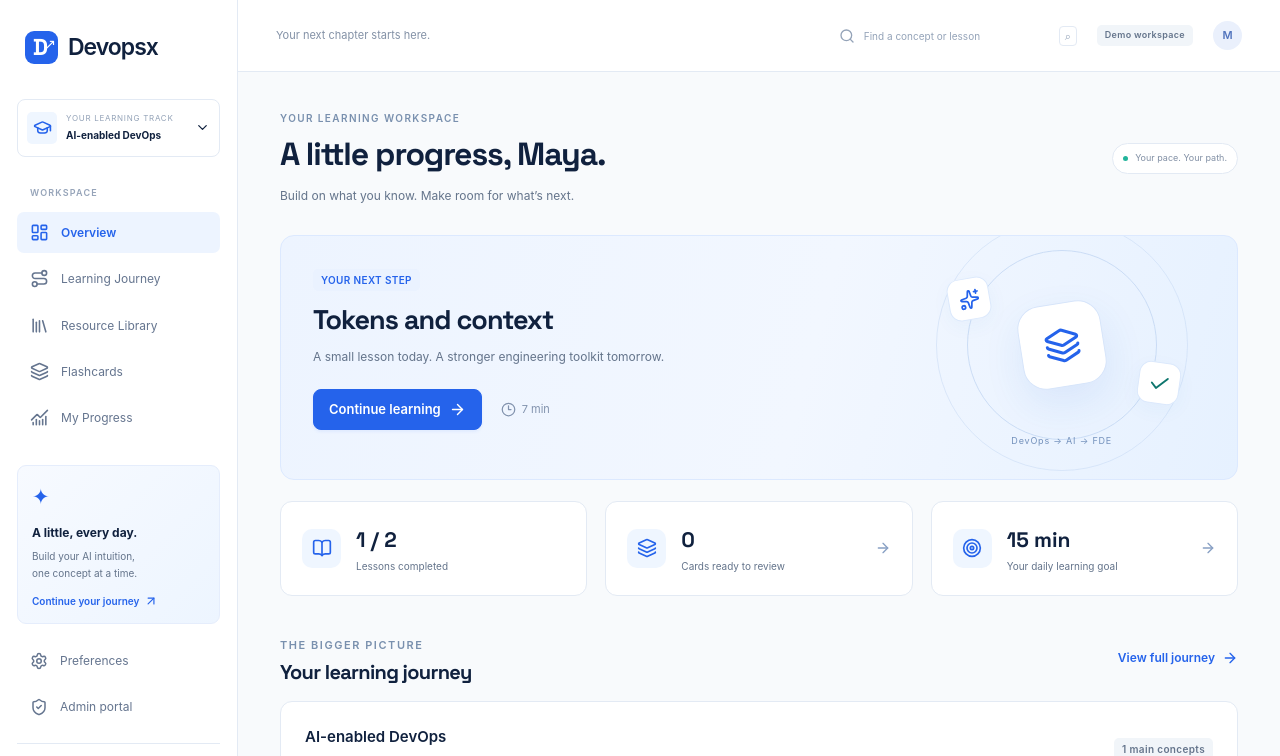
Test: learner navigation › links the dashboard tiles and persists a changed daily goal
Expected: the heading "A little progress, Maya." is shown, left=280, top=135, right=606, bottom=174
Click the link "0 Cards ready to review": (647, 548) left=605, top=501, right=913, bottom=596
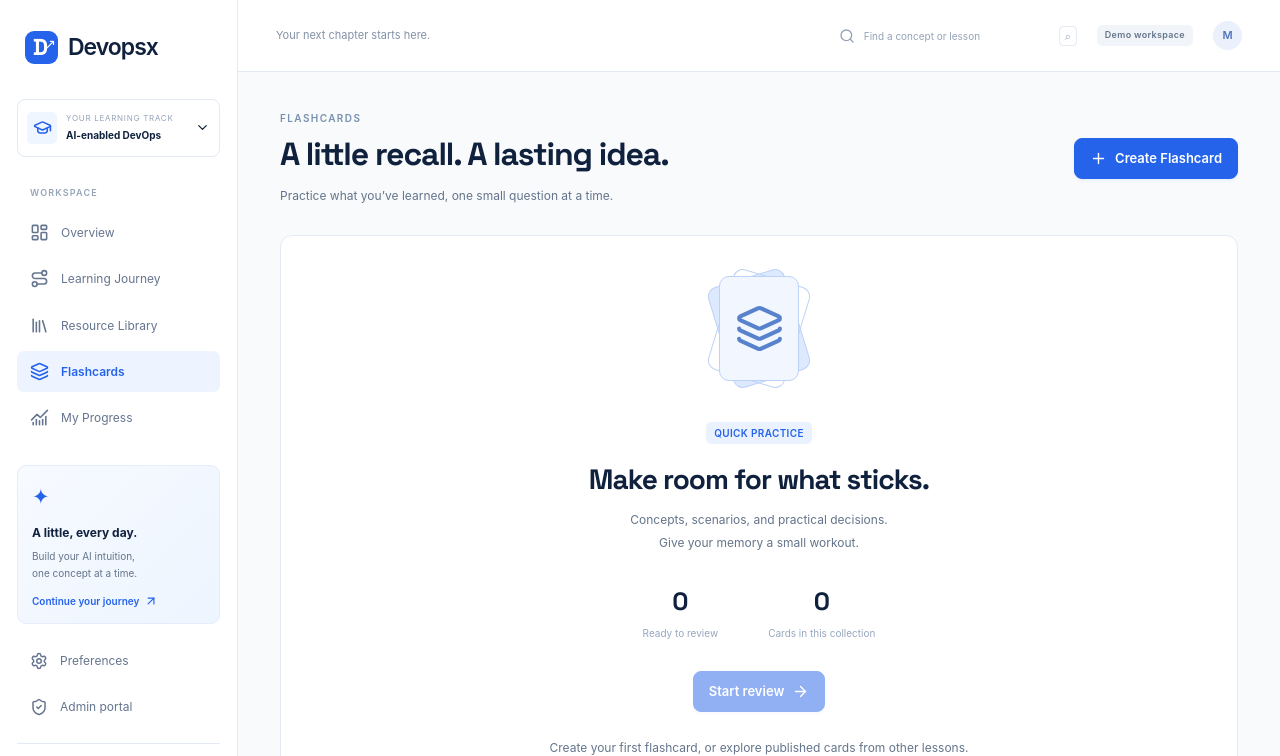
Expected: the heading "A little recall. A lasting idea." is shown, left=280, top=135, right=669, bottom=174
Click the link "Overview": (72, 233) left=30, top=223, right=115, bottom=242
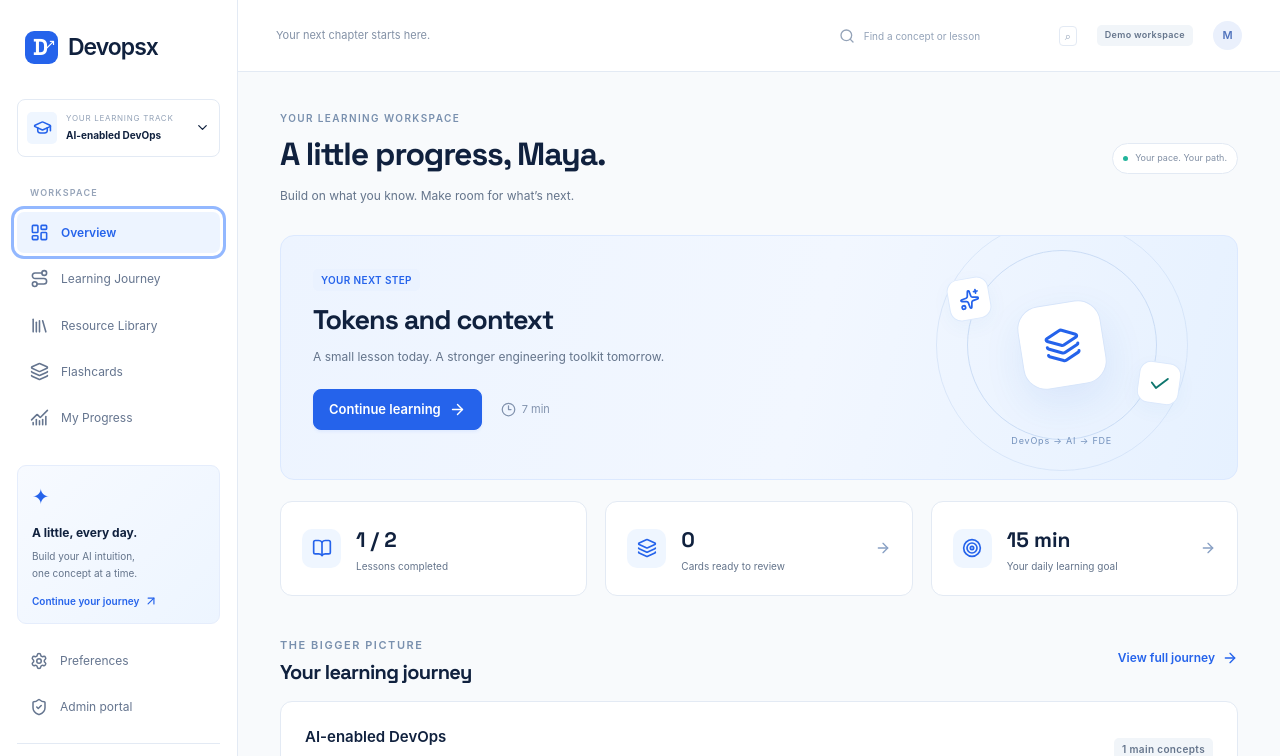
Click the link "15 min Your daily learning goal": (972, 548) left=931, top=501, right=1238, bottom=596
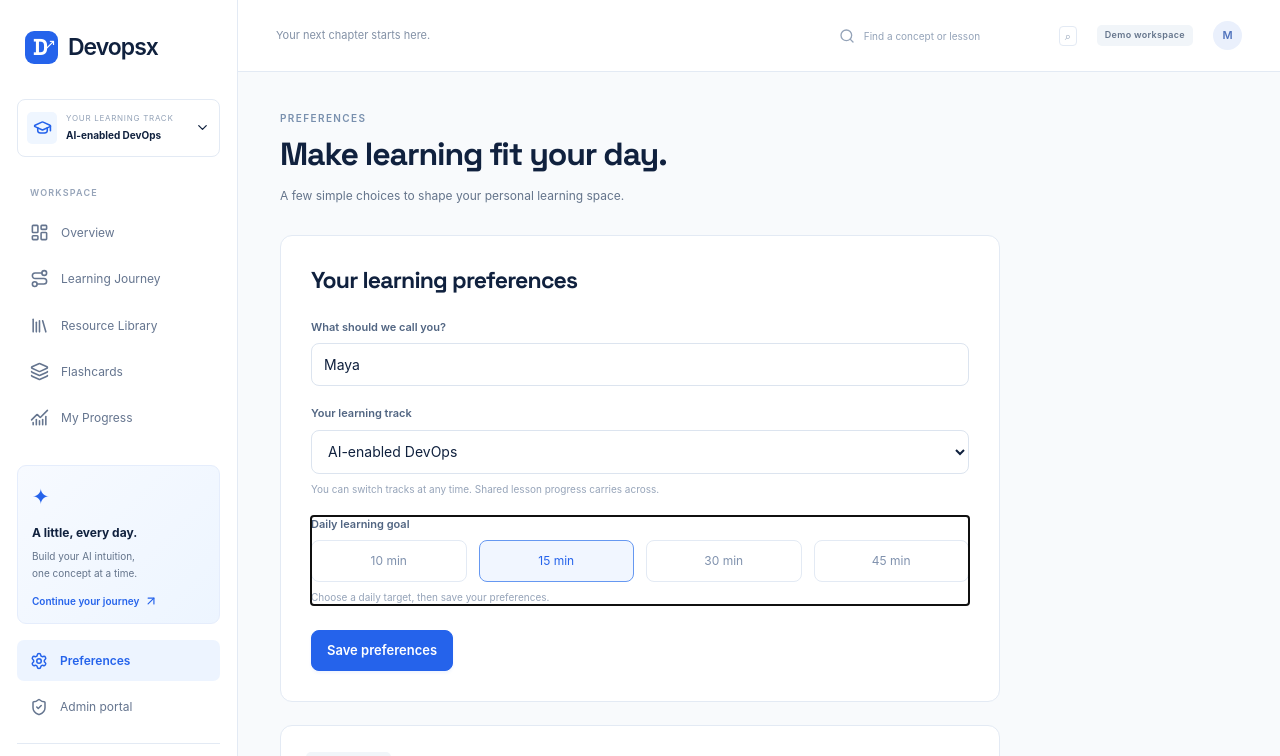
Expected: the heading "Make learning fit your day." is shown, left=280, top=135, right=667, bottom=174
Click the button "30 min": (724, 561) left=646, top=540, right=802, bottom=582
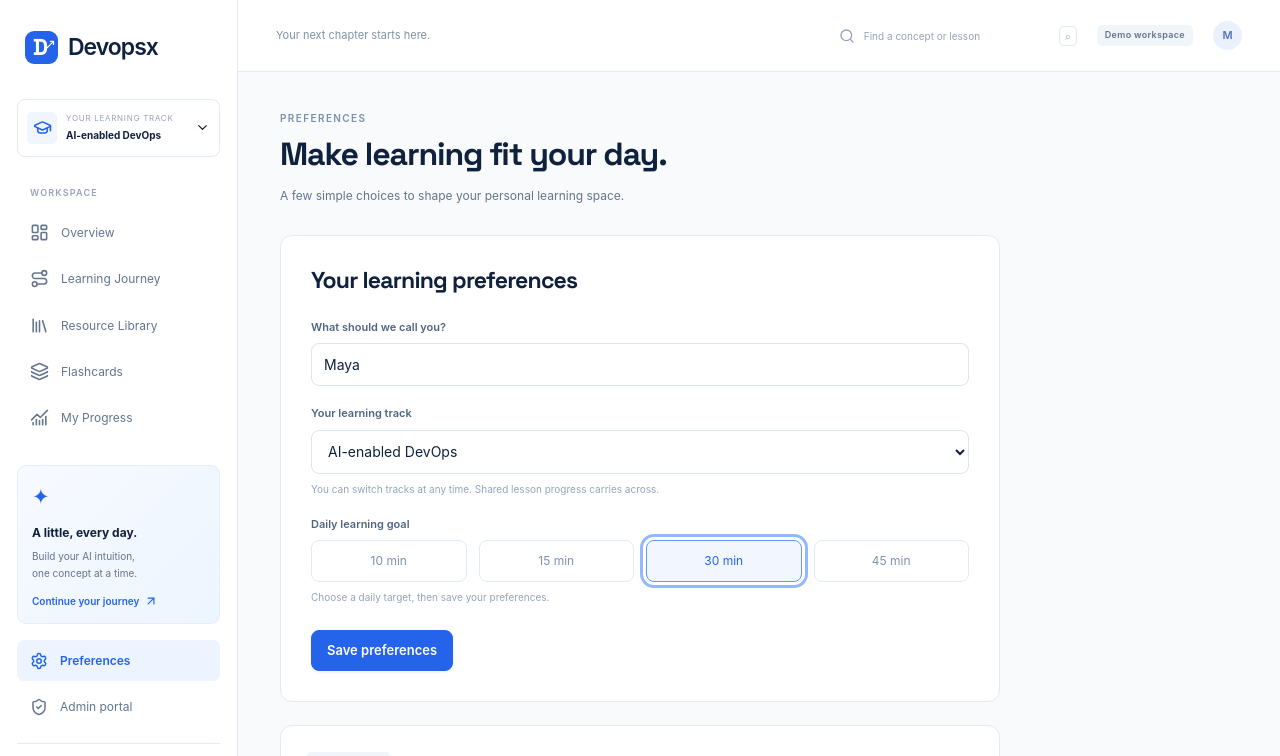
Click the button "Save preferences": (382, 650) left=311, top=630, right=453, bottom=671
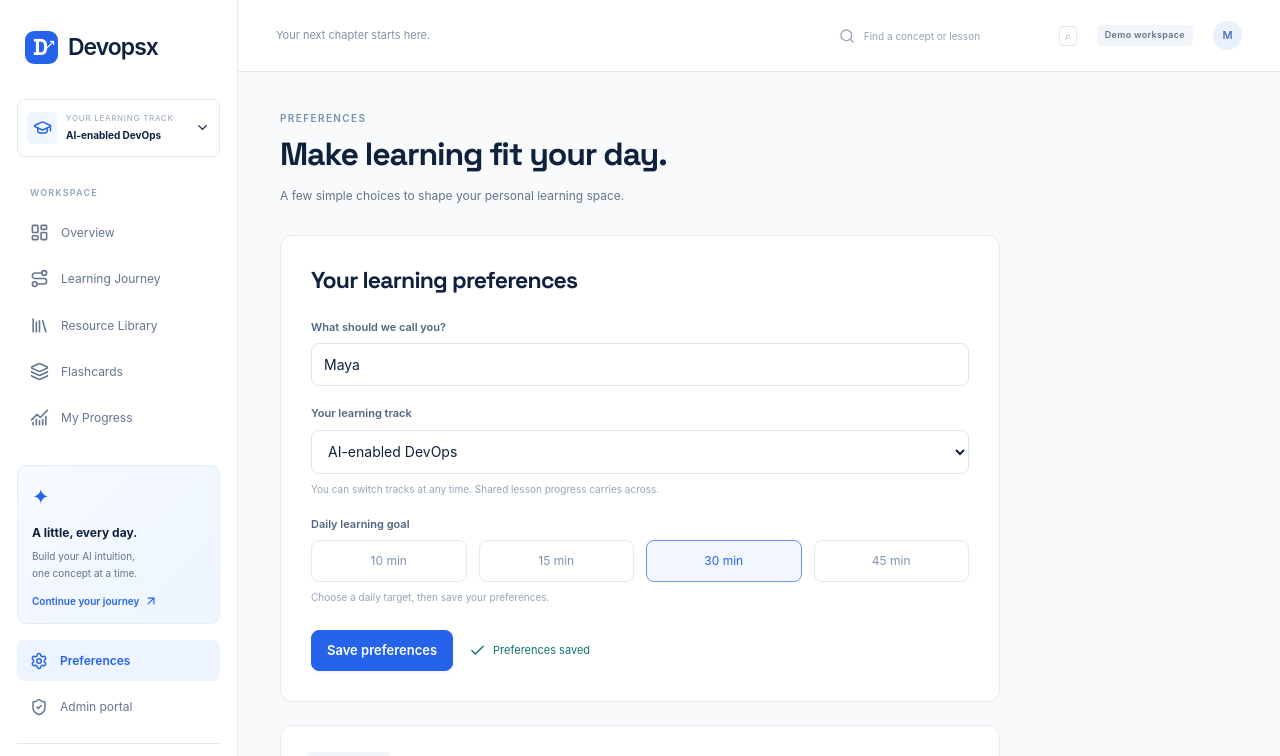
Expected: the text "Preferences saved" is shown, left=469, top=642, right=590, bottom=659
Click the link "Overview": (72, 233) left=30, top=223, right=115, bottom=242
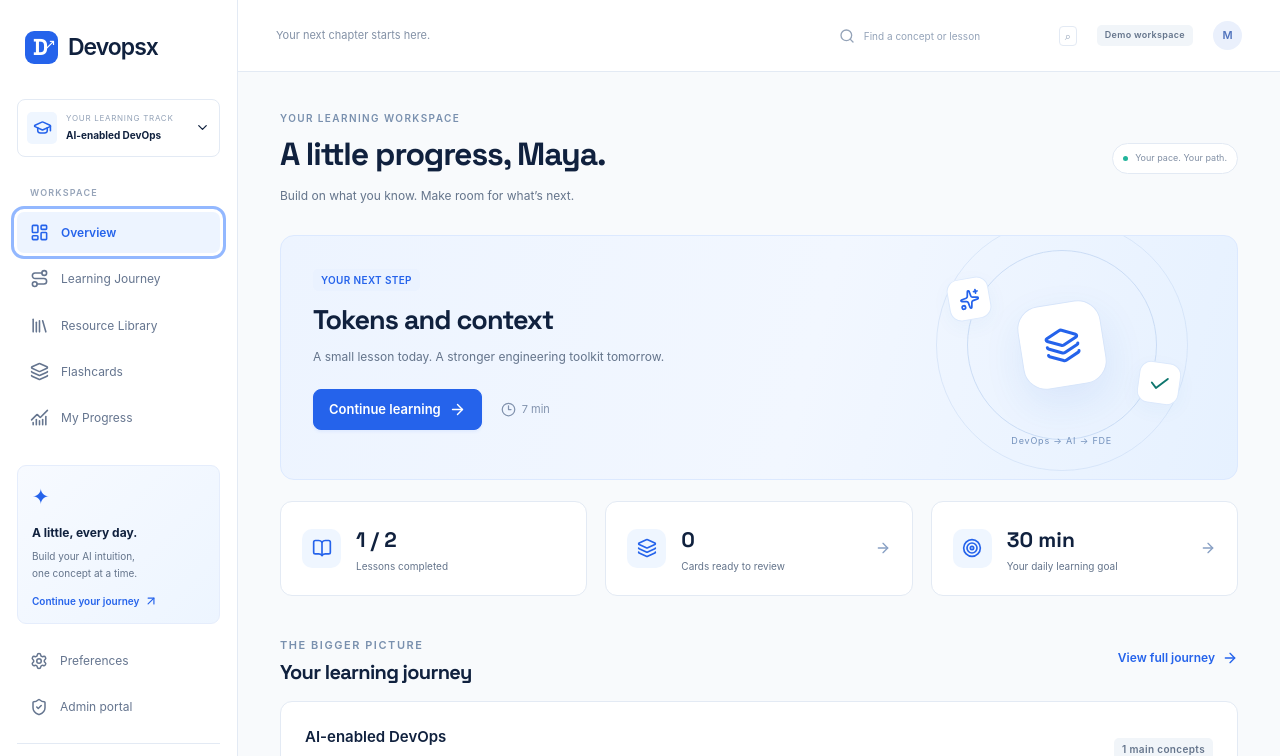
Expected: the link "30 min Your daily learning goal" is shown, left=931, top=501, right=1238, bottom=596
